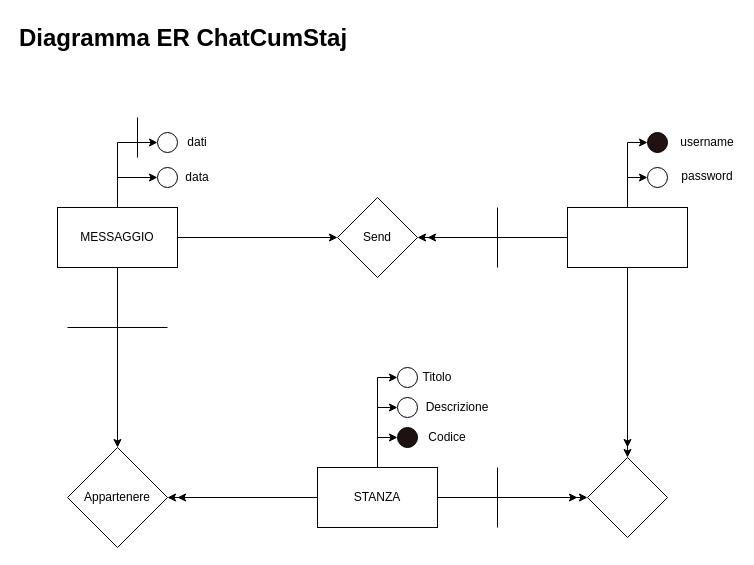
The diagram is 754 pixels wide and 565 high, and some of its shapes have lost their labels. Each missing label, with the centre of its shape:
"Risiedere" belongs at point (627, 497).
"UTENTE" belongs at point (627, 237).
